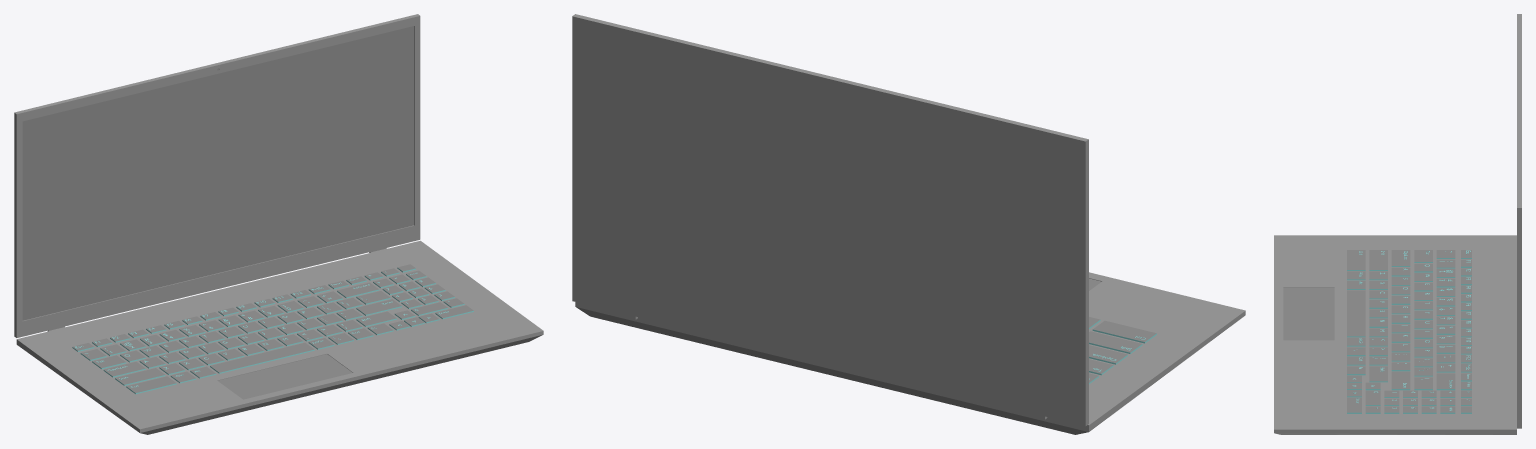
Rendered from laptop.fbx.
The picture shows the model from 3 angles, left to right: view 1: azimuth 30°, elevation 25°; view 2: azimuth 150°, elevation 25°; view 3: azimuth 270°, elevation 25°; orthographic projection. The views are drawn at different scales.
Parts seen in each view (by area): view 1: Cube.003, Cube.006, Cube.084, Text; view 2: Cube.006, Cube.084; view 3: Cube.006, Cube.084, Text.
Part boxes in pixels (bbox=[...]): Cube.003: bbox=[22, 26, 413, 320]; Cube.006: bbox=[14, 14, 543, 434]; Cube.084: bbox=[72, 264, 473, 399]; Text: bbox=[72, 267, 473, 394]; Cube.006: bbox=[572, 14, 1245, 434]; Cube.084: bbox=[1089, 278, 1156, 382]; Cube.006: bbox=[1274, 14, 1521, 434]; Cube.084: bbox=[1283, 250, 1471, 412]; Text: bbox=[1347, 250, 1471, 413].
Size of the model in its own units: 246 by 137 by 133.
